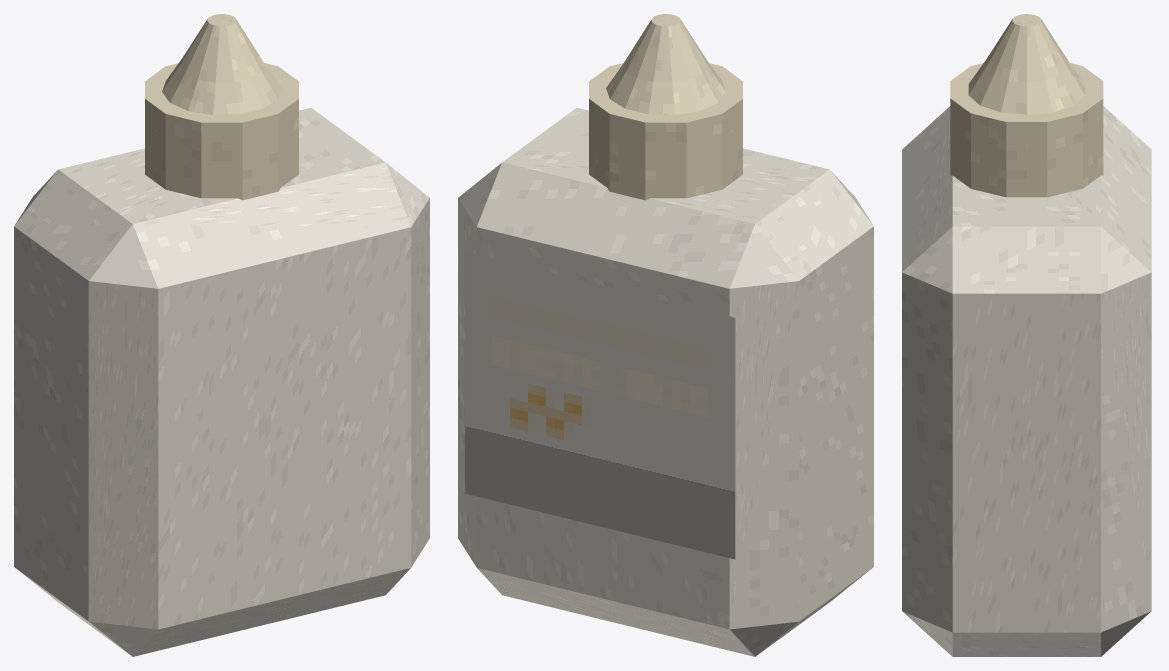
The model's file is hair_dye_white.glb.
3 views of the same model, side by side, from view 1: azimuth 30°, elevation 25°; view 2: azimuth 150°, elevation 25°; view 3: azimuth 270°, elevation 25° (orthographic).
Visible parts, largest first — view 1: block_squeeze bottle, block_pointed dispenser, block_dispenser tip; view 2: block_squeeze bottle, block_salon dye label, block_pointed dispenser, block_dispenser tip; view 3: block_squeeze bottle, block_pointed dispenser, block_dispenser tip.
Boxes of the visible parts, bbox=[...] form: block_squeeze bottle: bbox=[14, 108, 429, 656]; block_pointed dispenser: bbox=[145, 63, 298, 200]; block_dispenser tip: bbox=[155, 14, 281, 130]; block_squeeze bottle: bbox=[458, 108, 873, 656]; block_salon dye label: bbox=[465, 252, 735, 559]; block_pointed dispenser: bbox=[589, 63, 742, 200]; block_dispenser tip: bbox=[606, 14, 732, 130]; block_squeeze bottle: bbox=[902, 106, 1151, 656]; block_pointed dispenser: bbox=[950, 63, 1103, 197]; block_dispenser tip: bbox=[968, 14, 1085, 146].
Size of the model in its own units: 0.0742 by 0.1203 by 0.0479.
Materials: 1 (1 with a texture image).
